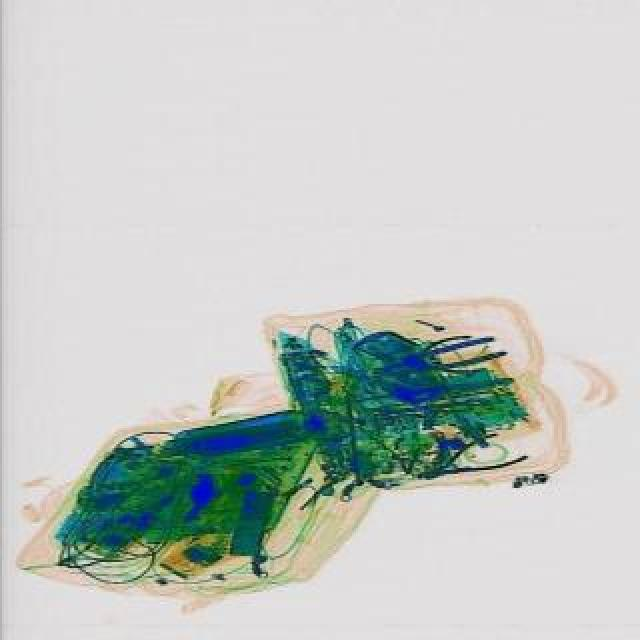scissors: (382, 394, 478, 416)
wrench: (412, 424, 524, 496), (364, 330, 504, 384), (378, 330, 482, 390)
